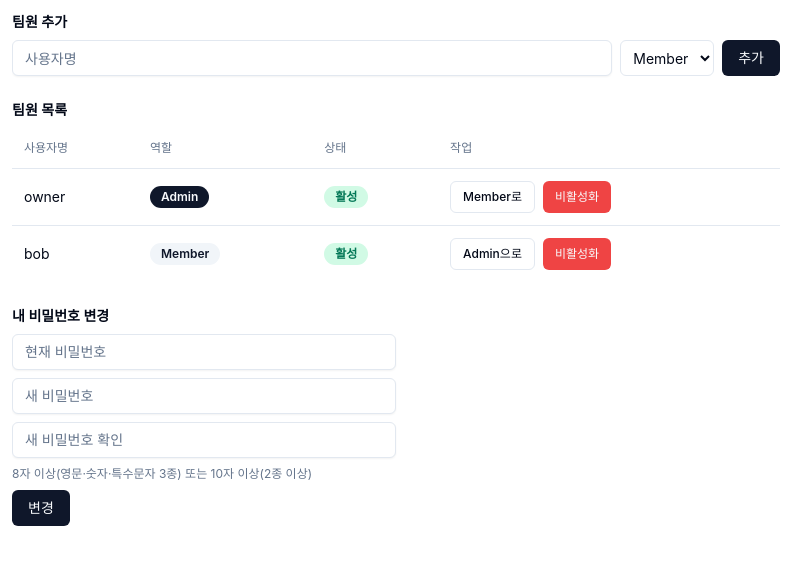
it: AgentsTab — 역할 관리/게이팅 (issue 210) › 마지막 Admin 강등(409)이면 안내를 보여준다
This screenshot has width=797, height=571.
Expected: the text "owner" is shown, [12,168,138,225]
Click the button "Member로". click: (492, 196)
box: [450,180,535,212]
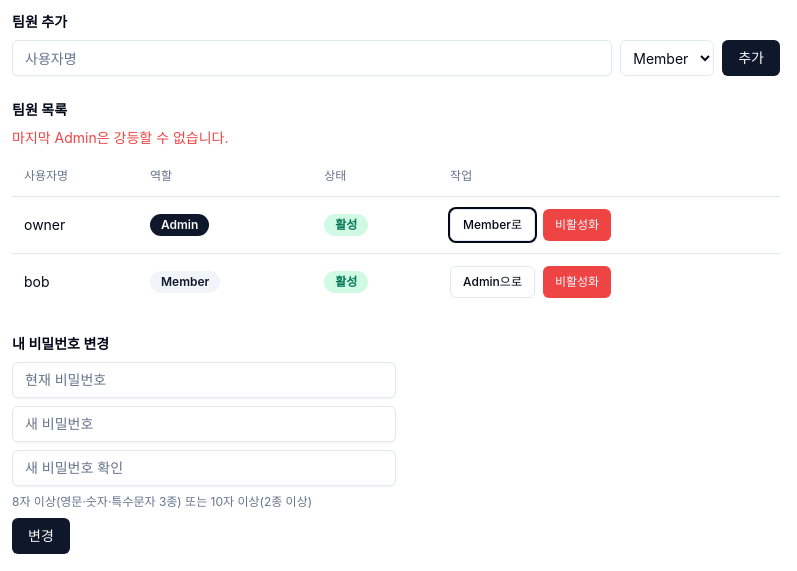
Now the text "마지막 Admin은 강등할 수 없습니다." is shown, box [12,129,228,146]
